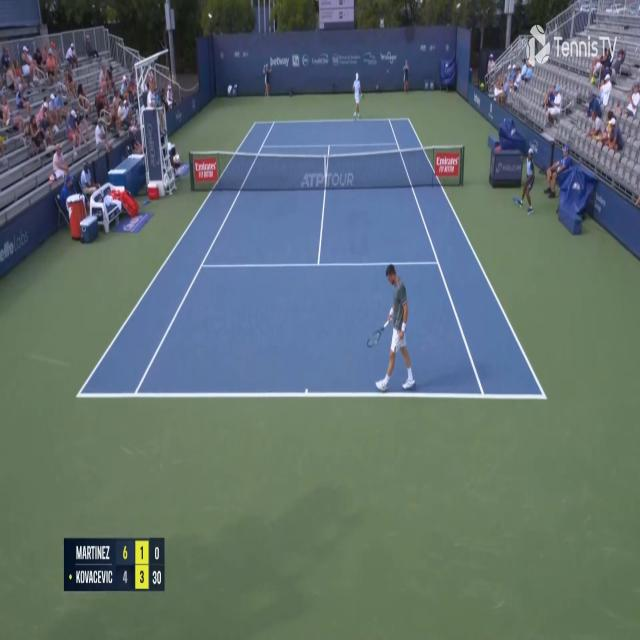tennis-player: (366, 257, 420, 398), (352, 72, 363, 122)
